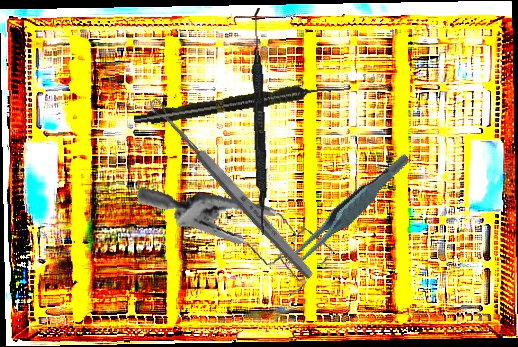Handpiece: (132, 80, 333, 129)
Spatula Surgical: (247, 7, 272, 236)
Speculum: (135, 159, 340, 318)
Surgical Spoon: (146, 95, 317, 282)
Tissue Forceps: (264, 152, 428, 271)
